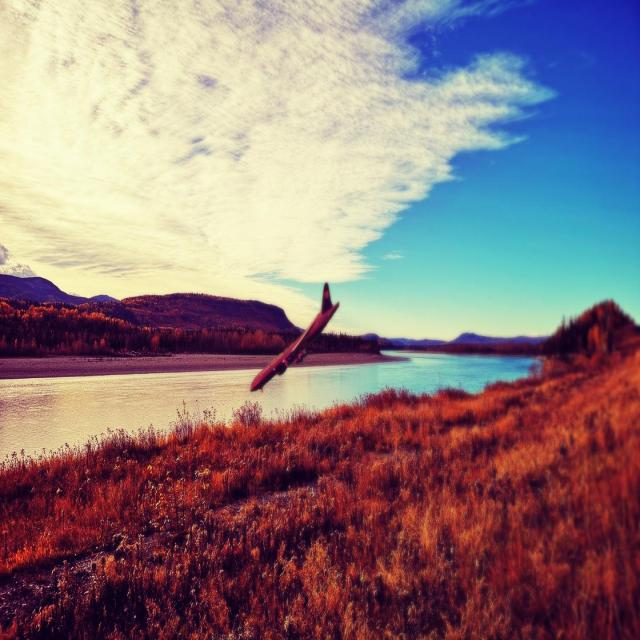airplane: (250, 282, 340, 392)
